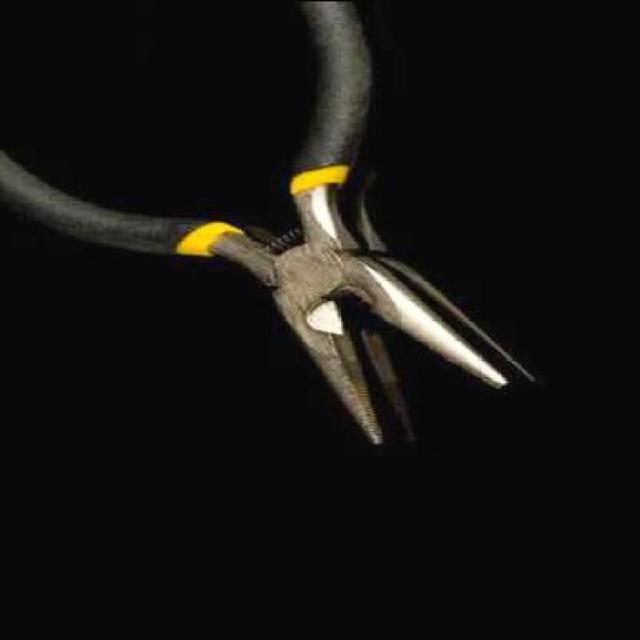pliers: (48, 37, 512, 443)
